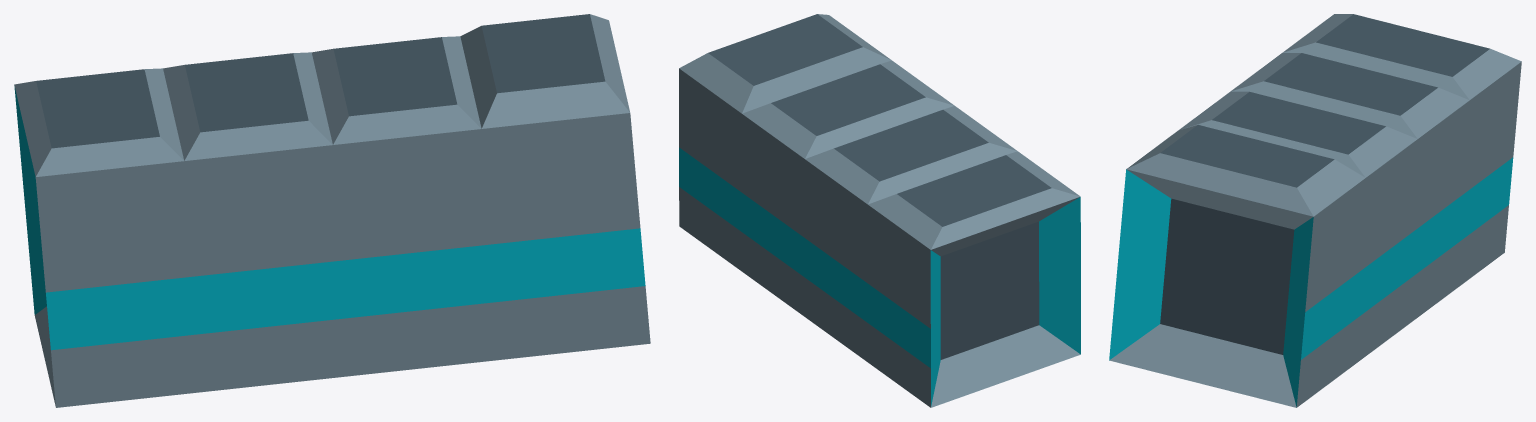
Rendered from crate_small.glb.
The picture shows the model from 3 angles, left to right: view 1: azimuth 30°, elevation 25°; view 2: azimuth 150°, elevation 25°; view 3: azimuth 270°, elevation 25°; orthographic projection. The views are drawn at different scales.
Parts seen in each view (by area): view 1: Node; view 2: Node; view 3: Node.
Part boxes in pixels (<box>): Node: <box>14,14,650,407</box>; Node: <box>679,14,1080,407</box>; Node: <box>1109,14,1521,407</box>.
Bounding box in the file's own units: 0.8698 × 0.4326 × 0.6566.
